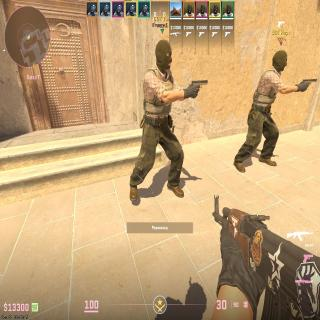T-Body: (143, 39, 185, 192), (248, 49, 287, 158)
T-Head: (153, 39, 173, 70), (272, 49, 287, 73)
